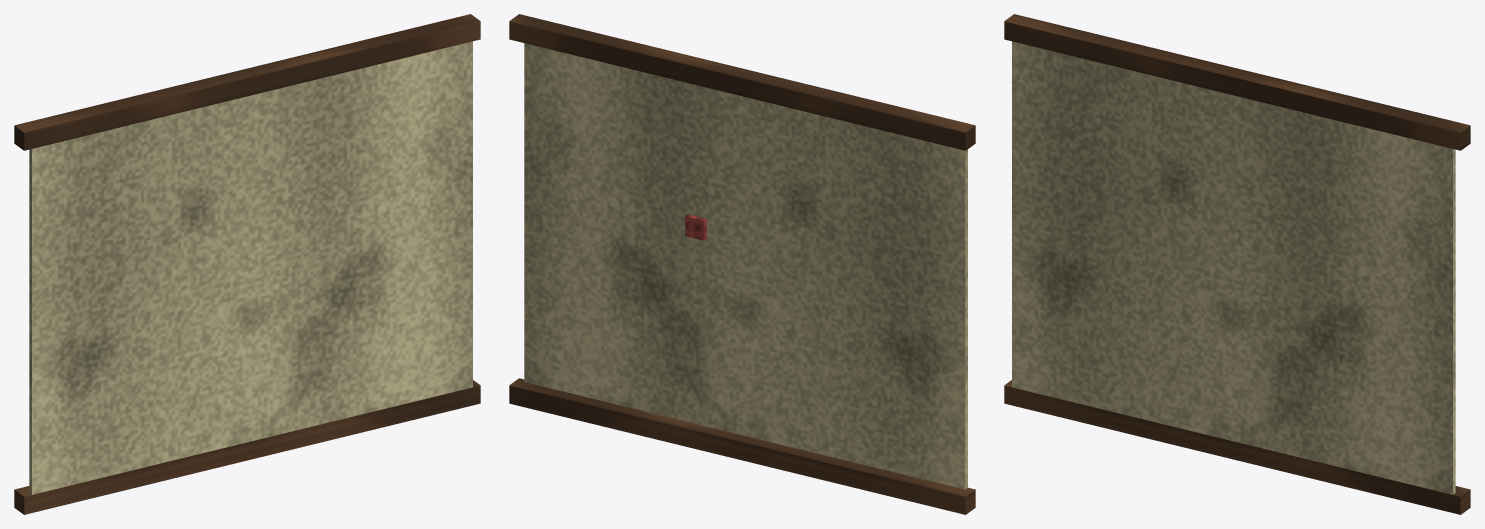
The model's file is mainland_map.fbx.
3 views of the same model, side by side, from view 1: azimuth 30°, elevation 25°; view 2: azimuth 150°, elevation 25°; view 3: azimuth 330°, elevation 25° (orthographic).
Parts seen in each view (by area): view 1: mainland_map; view 2: mainland_map; view 3: mainland_map.
Boxes of the visible parts, x1=… form: mainland_map: x1=14, y1=14, x2=480, y2=514; mainland_map: x1=509, y1=14, x2=975, y2=514; mainland_map: x1=1004, y1=14, x2=1470, y2=514.
Size of the model in its own units: 58 by 46.4 by 2.2.
